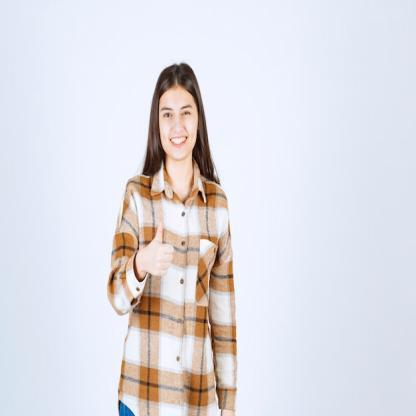thumb_up: (141, 216, 174, 282)
